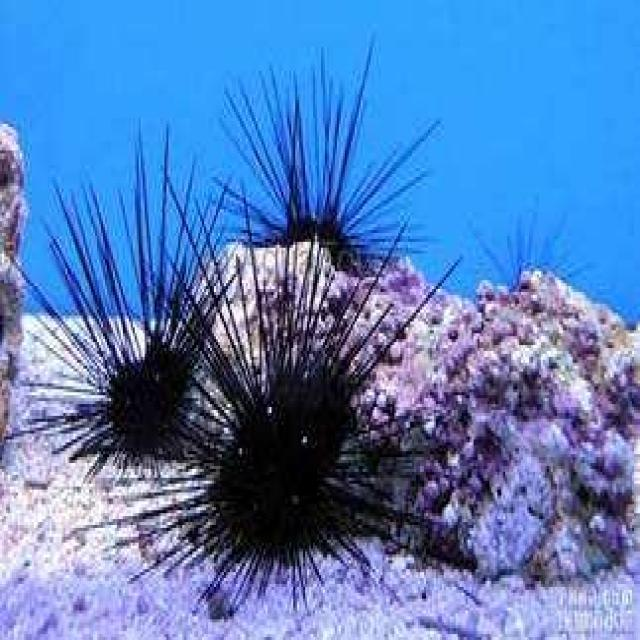Urchin: (123, 221, 442, 593), (8, 115, 222, 481), (208, 32, 440, 268)
